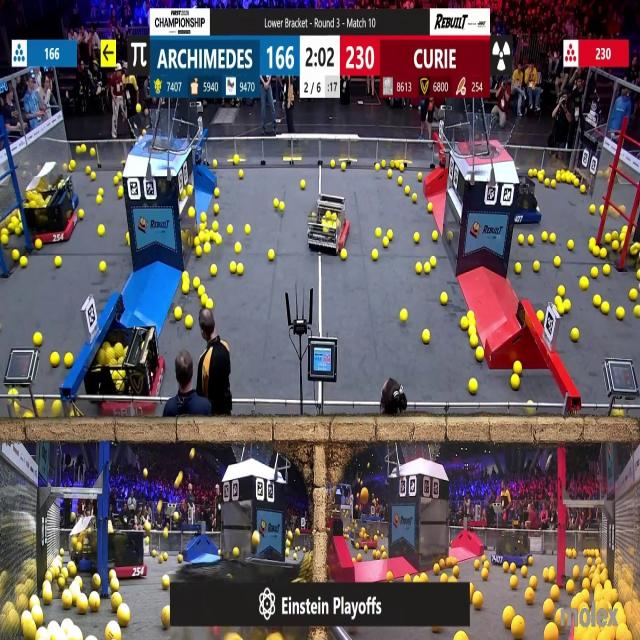ball_airborne: (360, 488, 368, 503), (175, 475, 183, 489), (155, 501, 161, 512), (144, 523, 151, 532), (136, 105, 142, 114), (189, 450, 195, 459), (165, 528, 170, 538), (141, 130, 148, 137), (174, 514, 180, 522), (143, 468, 148, 477)
ball_ground: (513, 618, 526, 640), (116, 606, 129, 626), (106, 625, 121, 640), (542, 600, 553, 619), (502, 607, 512, 627), (76, 598, 88, 614), (163, 606, 172, 627), (90, 595, 101, 612), (544, 625, 556, 640), (472, 593, 482, 610), (62, 593, 72, 609), (42, 590, 52, 606), (111, 594, 120, 610), (525, 588, 534, 604), (544, 568, 554, 582), (65, 353, 74, 368), (35, 612, 44, 627), (54, 402, 62, 418), (514, 360, 523, 374), (512, 376, 521, 390), (68, 562, 77, 576), (468, 379, 476, 394), (50, 352, 58, 367), (422, 328, 430, 342), (552, 587, 560, 601), (566, 582, 574, 596), (94, 574, 102, 588), (252, 531, 259, 546), (34, 334, 42, 347), (163, 575, 171, 588), (582, 277, 590, 290), (511, 575, 519, 588), (618, 308, 626, 320), (594, 294, 602, 306), (630, 288, 638, 300), (111, 580, 119, 592), (562, 302, 570, 314), (460, 317, 468, 329), (36, 398, 44, 410), (571, 328, 578, 341), (475, 348, 482, 361), (602, 266, 610, 277), (174, 308, 182, 319), (482, 568, 490, 579), (1, 235, 9, 246), (455, 632, 466, 640), (442, 292, 449, 304), (185, 316, 192, 328), (269, 249, 276, 261), (530, 575, 537, 587), (200, 233, 208, 243), (467, 324, 475, 334), (510, 563, 518, 573), (570, 598, 578, 608), (399, 310, 406, 321), (469, 337, 476, 348), (204, 243, 211, 254), (201, 295, 208, 306), (11, 250, 18, 261), (453, 566, 460, 577), (516, 264, 522, 276), (592, 268, 598, 280), (371, 249, 377, 261), (556, 295, 564, 304), (572, 566, 578, 578), (420, 572, 428, 581), (35, 240, 42, 250), (555, 256, 562, 266), (100, 263, 107, 273), (558, 286, 565, 296), (550, 234, 557, 244), (238, 266, 245, 276), (244, 223, 251, 233), (234, 548, 241, 558), (341, 250, 348, 260), (611, 241, 618, 251), (210, 232, 217, 242), (589, 240, 596, 250), (211, 266, 217, 277), (602, 304, 608, 315), (99, 224, 105, 235), (56, 256, 62, 267), (195, 246, 201, 257), (533, 262, 539, 273), (236, 243, 242, 254), (414, 233, 420, 244), (634, 306, 640, 317), (19, 256, 25, 267), (430, 256, 436, 267), (60, 576, 66, 587), (186, 184, 192, 195), (584, 577, 590, 588), (526, 409, 534, 417), (403, 573, 410, 582), (199, 286, 206, 295), (213, 205, 220, 214), (213, 187, 220, 196), (442, 573, 449, 582), (432, 625, 439, 634), (226, 224, 232, 234), (192, 278, 198, 288), (182, 284, 188, 294), (387, 570, 393, 580), (537, 312, 543, 322), (417, 264, 422, 276), (376, 229, 382, 239), (541, 233, 547, 243), (383, 238, 389, 248), (424, 265, 430, 275), (216, 236, 222, 246), (522, 566, 528, 576), (231, 264, 237, 274), (600, 248, 606, 258), (188, 208, 194, 218), (528, 236, 534, 246), (117, 187, 123, 197), (590, 205, 596, 215), (207, 300, 213, 310), (604, 234, 610, 244), (433, 564, 439, 574), (584, 566, 590, 576), (566, 550, 572, 560), (109, 570, 116, 578), (450, 575, 458, 582), (212, 221, 218, 230), (299, 180, 305, 189), (78, 210, 84, 219), (274, 200, 280, 209), (579, 184, 585, 193), (403, 185, 409, 194), (502, 563, 508, 572), (518, 236, 524, 245), (193, 238, 199, 247), (397, 176, 403, 185), (234, 157, 240, 166), (543, 178, 549, 187), (537, 173, 543, 182), (621, 234, 627, 243), (448, 233, 454, 242), (568, 240, 573, 250), (474, 560, 479, 570), (27, 413, 34, 420), (182, 272, 188, 280), (467, 312, 473, 320), (484, 561, 490, 569), (84, 165, 90, 173), (200, 222, 206, 230), (91, 148, 97, 156), (382, 553, 388, 561), (70, 162, 76, 170), (284, 550, 290, 558), (164, 553, 170, 561), (371, 552, 377, 560), (388, 231, 393, 240), (428, 204, 433, 213), (418, 173, 423, 182), (413, 192, 418, 201), (92, 172, 97, 181), (594, 247, 599, 256), (553, 182, 558, 191), (356, 556, 362, 563), (14, 227, 20, 234), (291, 552, 297, 559), (388, 170, 393, 178), (178, 555, 183, 563), (342, 162, 347, 170), (280, 202, 284, 212), (240, 170, 244, 180), (123, 234, 128, 242), (145, 536, 150, 544), (588, 558, 593, 566), (432, 233, 436, 242), (330, 161, 334, 170), (527, 399, 533, 405), (482, 556, 488, 562), (99, 188, 104, 195), (374, 163, 379, 170), (116, 172, 121, 179), (528, 170, 533, 177), (363, 544, 368, 551), (98, 197, 102, 205), (202, 213, 206, 221), (600, 206, 604, 214), (636, 272, 640, 280), (528, 558, 532, 566), (399, 165, 403, 173), (114, 177, 118, 184), (50, 635, 55, 640), (214, 159, 217, 167), (218, 551, 222, 557), (152, 552, 156, 558), (353, 558, 356, 564)
goal: (460, 117, 517, 158), (130, 116, 188, 153)
robot_blue: (492, 526, 531, 566), (68, 523, 99, 572), (514, 178, 542, 225)
robot_red: (86, 319, 166, 416), (24, 174, 78, 244), (306, 194, 349, 252), (106, 532, 146, 580), (348, 522, 376, 549)
